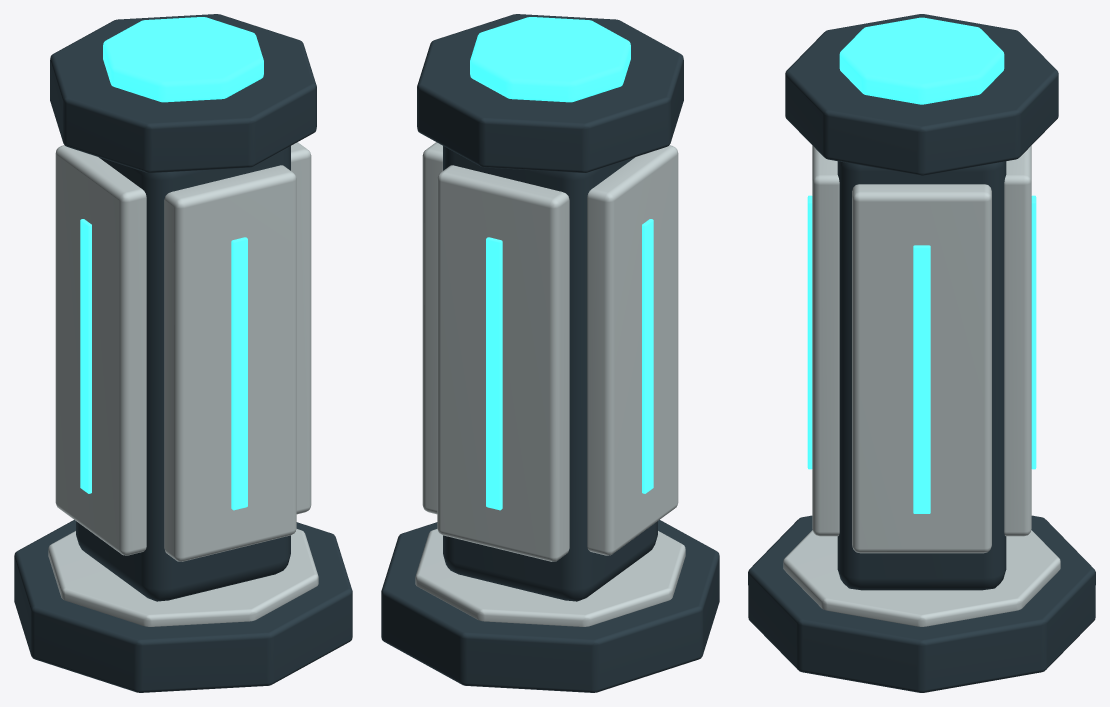
Rendered from Pylon.fbx.
The picture shows the model from 3 angles, left to right: view 1: azimuth 30°, elevation 25°; view 2: azimuth 150°, elevation 25°; view 3: azimuth 270°, elevation 25°; orthographic projection.
Parts seen in each view (by area): view 1: Armor fin.003, Armor fin.002, Foot, Capital, Tower, Beacon, Foot trim, Armor fin, Energy seam.003, Energy seam.002; view 2: Armor fin.001, Armor fin.002, Foot, Capital, Tower, Beacon, Foot trim, Armor fin, Energy seam.001, Energy seam.002; view 3: Armor fin, Foot, Capital, Tower, Foot trim, Beacon, Armor fin.001, Armor fin.003, Energy seam, Energy seam.001, Energy seam.003.
Part boxes in pixels (<box>): Armor fin.003: <box>164,165,296,561</box>; Armor fin.002: <box>55,145,146,555</box>; Foot: <box>14,520,352,692</box>; Capital: <box>50,14,316,172</box>; Tower: <box>76,146,290,601</box>; Beacon: <box>103,17,263,102</box>; Foot trim: <box>48,528,318,626</box>; Armor fin: <box>291,142,311,514</box>; Energy seam.003: <box>231,237,247,510</box>; Energy seam.002: <box>80,219,91,493</box>; Armor fin.001: <box>437,165,569,561</box>; Armor fin.002: <box>587,145,678,555</box>; Foot: <box>381,520,719,692</box>; Capital: <box>417,14,683,172</box>; Tower: <box>443,146,657,601</box>; Beacon: <box>470,17,630,102</box>; Foot trim: <box>415,528,685,626</box>; Armor fin: <box>422,142,442,514</box>; Energy seam.001: <box>486,237,502,510</box>; Energy seam.002: <box>642,219,653,493</box>; Armor fin: <box>852,184,991,553</box>; Foot: <box>748,515,1095,692</box>; Capital: <box>785,14,1058,175</box>; Tower: <box>837,161,1006,590</box>; Foot trim: <box>783,530,1060,626</box>; Beacon: <box>839,17,1004,104</box>; Armor fin.001: <box>1004,145,1031,536</box>; Armor fin.003: <box>812,145,839,536</box>; Energy seam: <box>913,245,930,513</box>; Energy seam.001: <box>1031,195,1036,469</box>; Energy seam.003: <box>807,195,812,469</box>.
Size of the model in its own units: 1.79 by 3.24 by 1.79.
